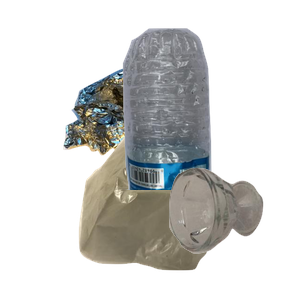glass: (166, 165, 300, 300)
metal: (61, 54, 225, 202)
plastic: (111, 26, 300, 206)
trash: (76, 124, 287, 300)
